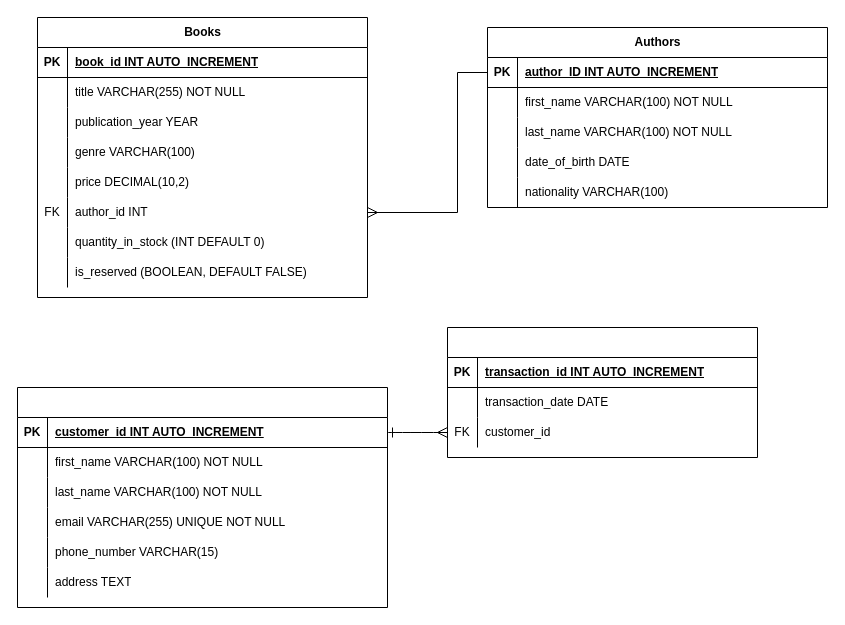
Some shapes in this 845 by 625 pixel diagram are drawn without their labels. Here are the shapes that lost their labels. From the top down, the box of each, then its label:
(446, 326, 758, 458): Transactions
(16, 386, 388, 608): Customers
